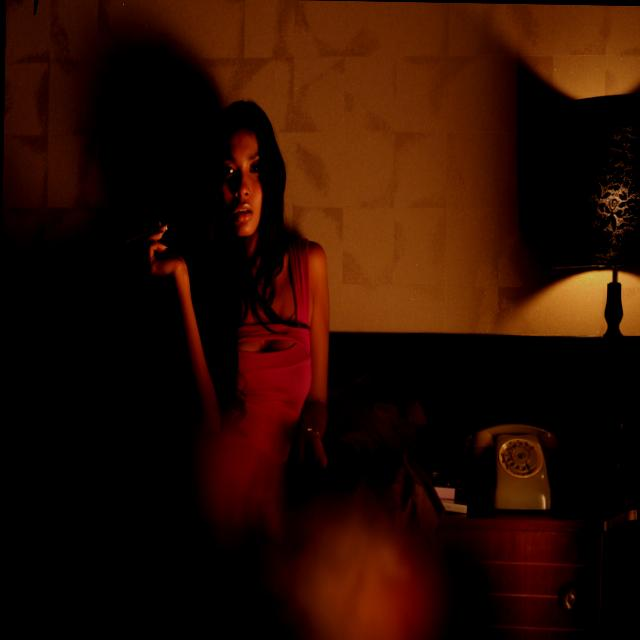smoke: (114, 211, 174, 263)
